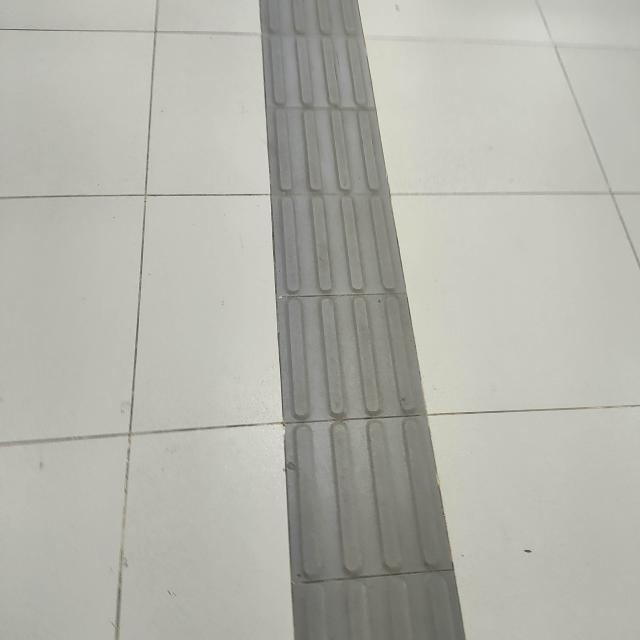lurus: (238, 15, 457, 640)
